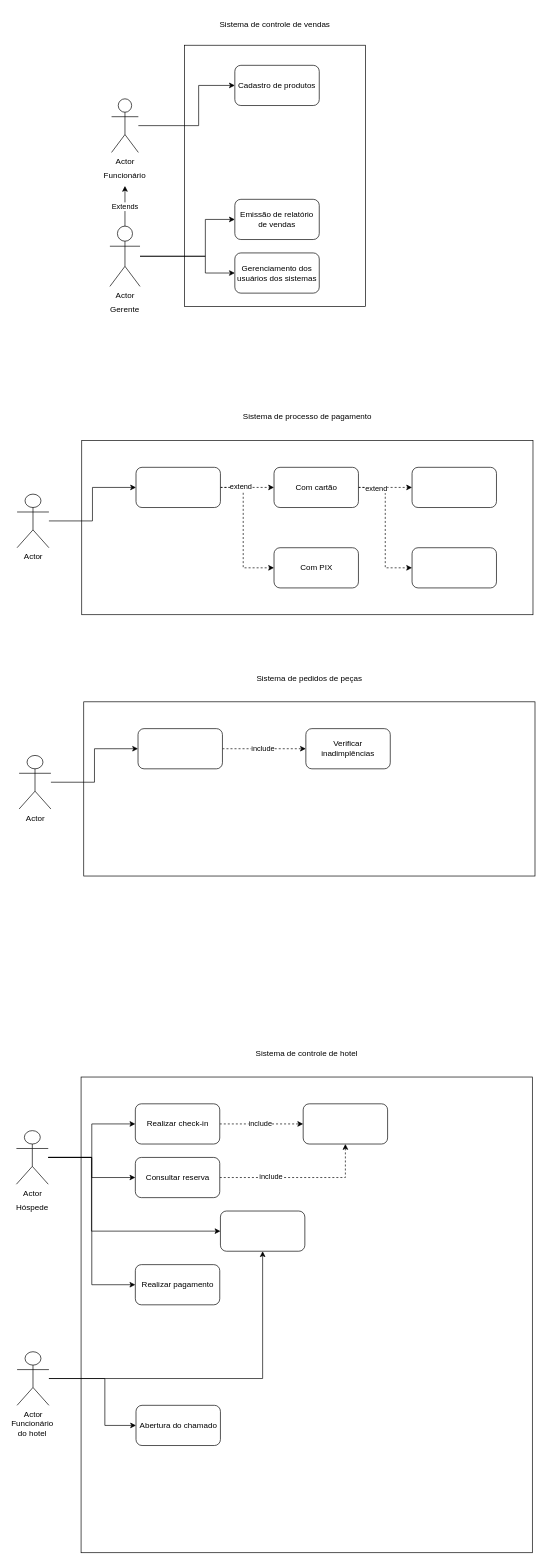
Some shapes in this 547 by 1564 pixel diagram are drawn without their labels. The centre of each missing label's shape, as x and y in pixels:
"Cartão de crédito" belongs at point (453, 487).
"Cartão de débito" belongs at point (453, 567).
"Pagar a conta" belongs at point (177, 487).
"Pedir comida" belongs at point (262, 1230).
"Pedir peças" belongs at point (179, 748).
"Validar estadia" belongs at point (345, 1123).
